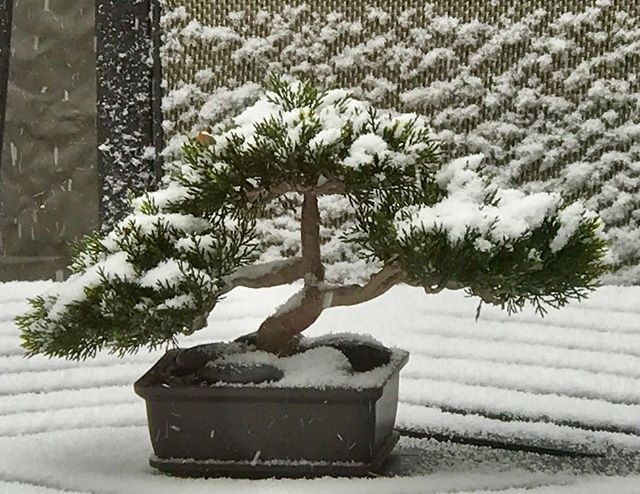tree: (27, 82, 598, 454)
